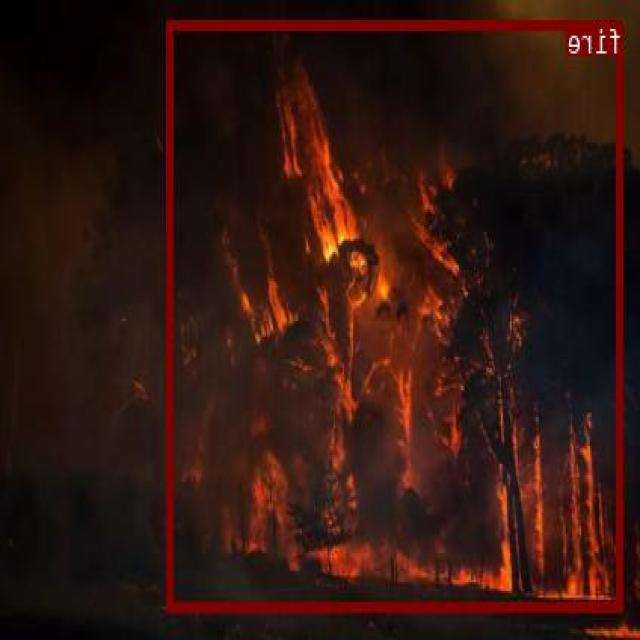fire: (169, 18, 625, 611)
